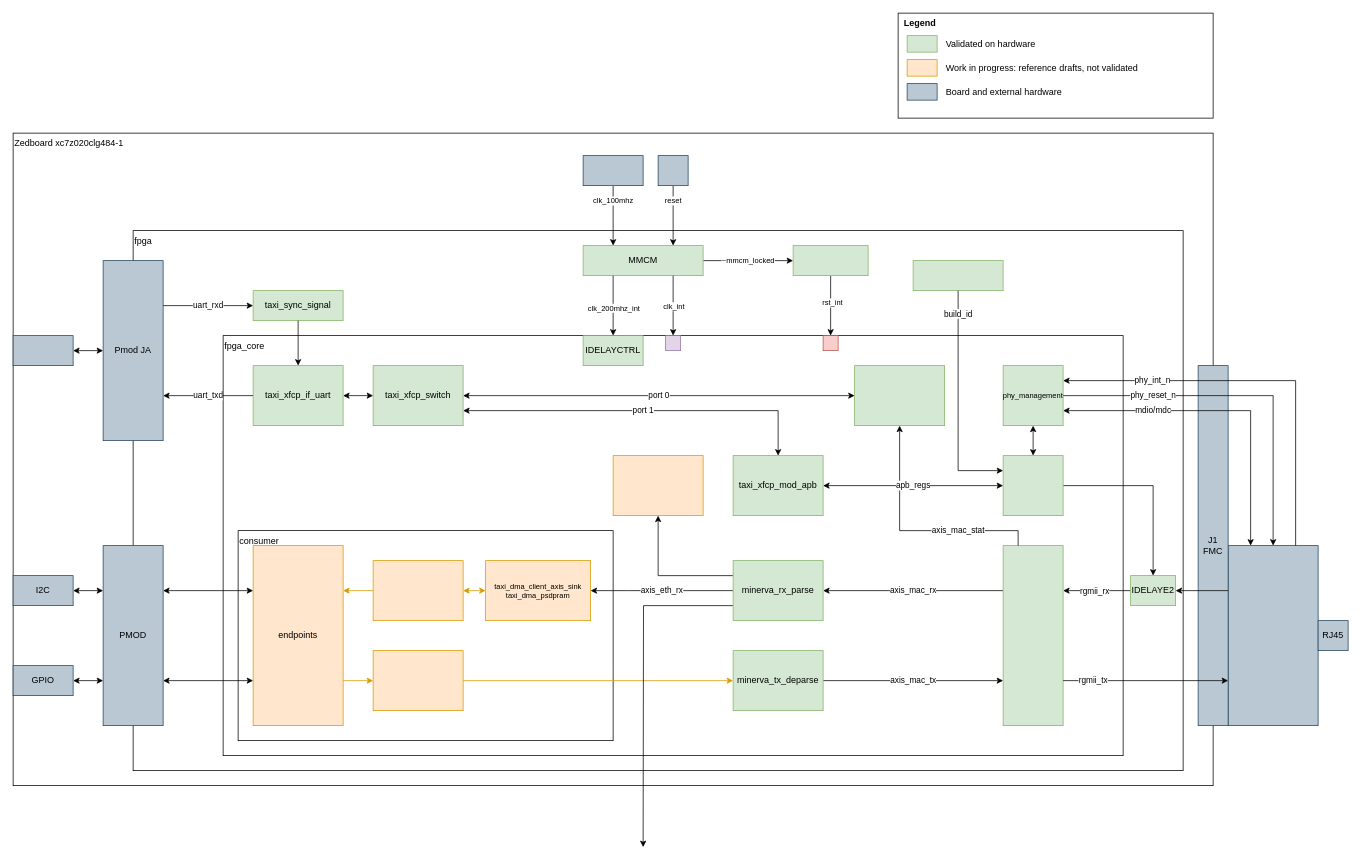
This 1361x866 diagram has some shape labels left out. The centre of each missing label's shape, as x and y in pixels:
100MHz: point (612, 170)
ADIN1300FMCZ: point (1272, 635)
BTNC: point (672, 170)
Debug Probe: point (42, 350)
request_handler: point (417, 590)
response_handler: point (417, 680)
taxi_eth_mac_1g_rgmii_fifo: point (1032, 635)
taxi_sync_reset: point (830, 260)
taxi_xfcp_mod_stats: point (899, 395)
Time Services 802.1AS 1588v2: point (657, 485)
USR_ACCESSE2: point (957, 275)
zedboard_regs: point (1032, 485)
